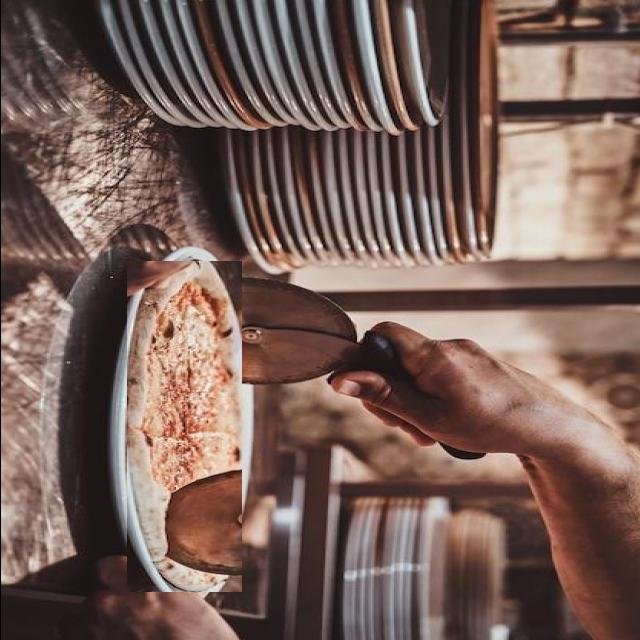pizza: (126, 261, 241, 592)
